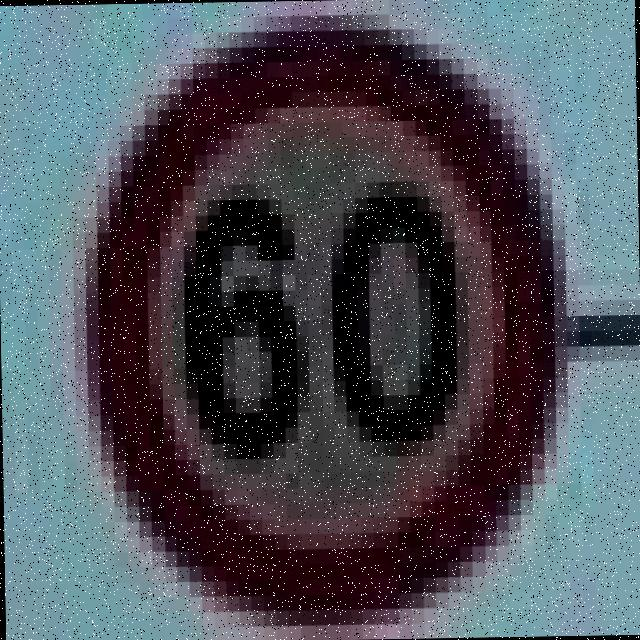Ograniczenie predkosci do 60: (68, 0, 559, 614)
